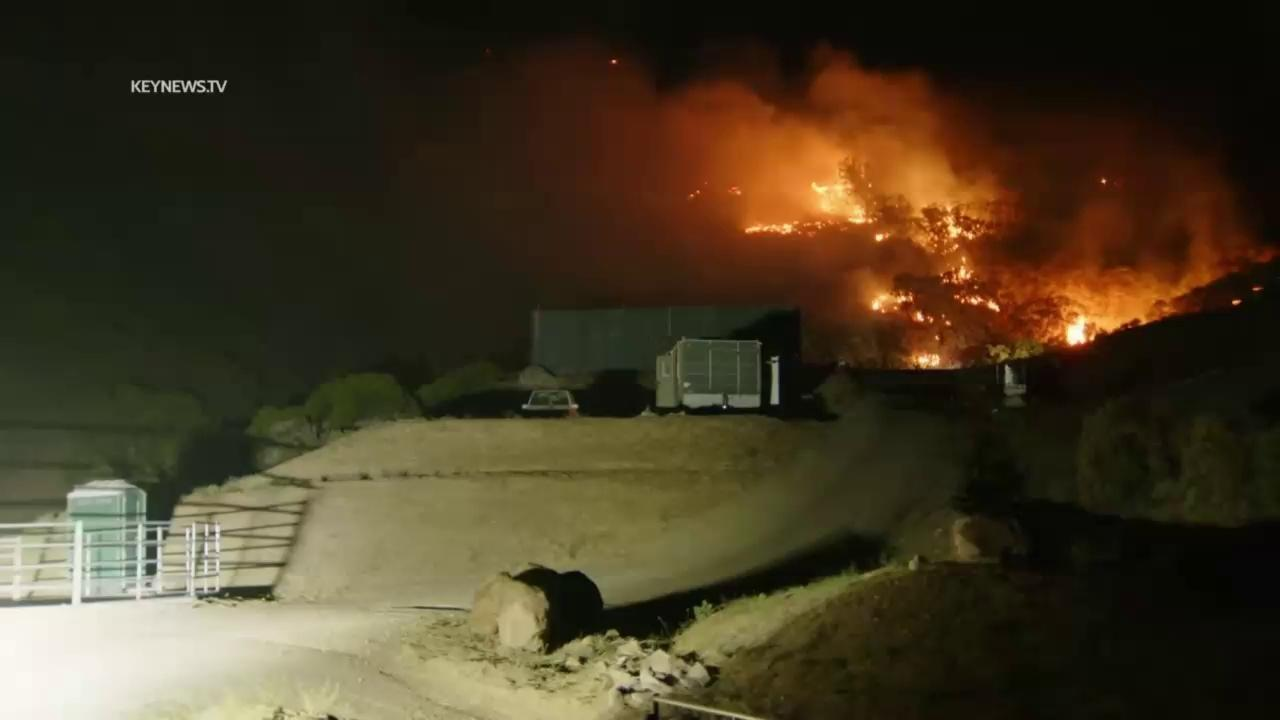fire: (808, 178, 879, 224), (934, 200, 990, 256), (1055, 309, 1098, 346), (741, 217, 803, 239), (949, 289, 1002, 314), (865, 288, 917, 312), (938, 257, 980, 285), (906, 349, 943, 370), (908, 309, 934, 325), (873, 228, 893, 243), (728, 185, 744, 196), (1227, 298, 1244, 306), (1247, 286, 1267, 292), (1097, 177, 1108, 185), (934, 334, 941, 342), (944, 320, 952, 327), (694, 189, 702, 195), (688, 194, 695, 199)
smoke: (389, 28, 1279, 336)
